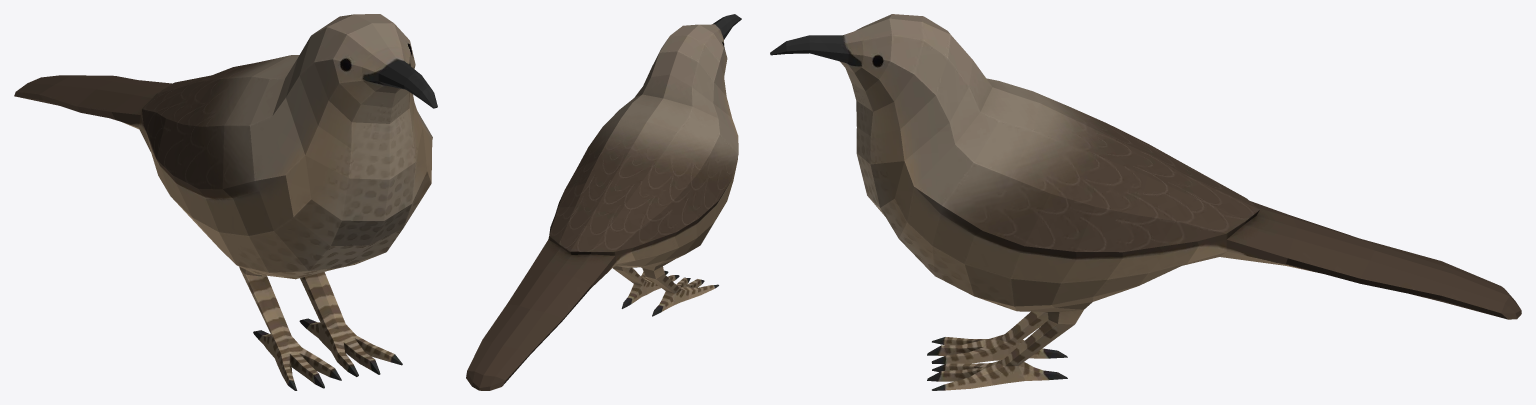
The model's file is dRMt6TlNFuV.glb.
The picture shows the model from 3 angles, left to right: view 1: azimuth 30°, elevation 25°; view 2: azimuth 150°, elevation 25°; view 3: azimuth 270°, elevation 25°; orthographic projection. The views are drawn at different scales.
Parts seen in each view (by area): view 1: CurveBilledThrasher_Mesh; view 2: CurveBilledThrasher_Mesh; view 3: CurveBilledThrasher_Mesh.
Part boxes in pixels (<box>): CurveBilledThrasher_Mesh: <box>14,14,437,390</box>; CurveBilledThrasher_Mesh: <box>466,14,741,390</box>; CurveBilledThrasher_Mesh: <box>770,14,1521,390</box>.
Bounding box in the file's own units: 0.5704 × 1 × 1.95.
Materials: 1 (1 with a texture image).
